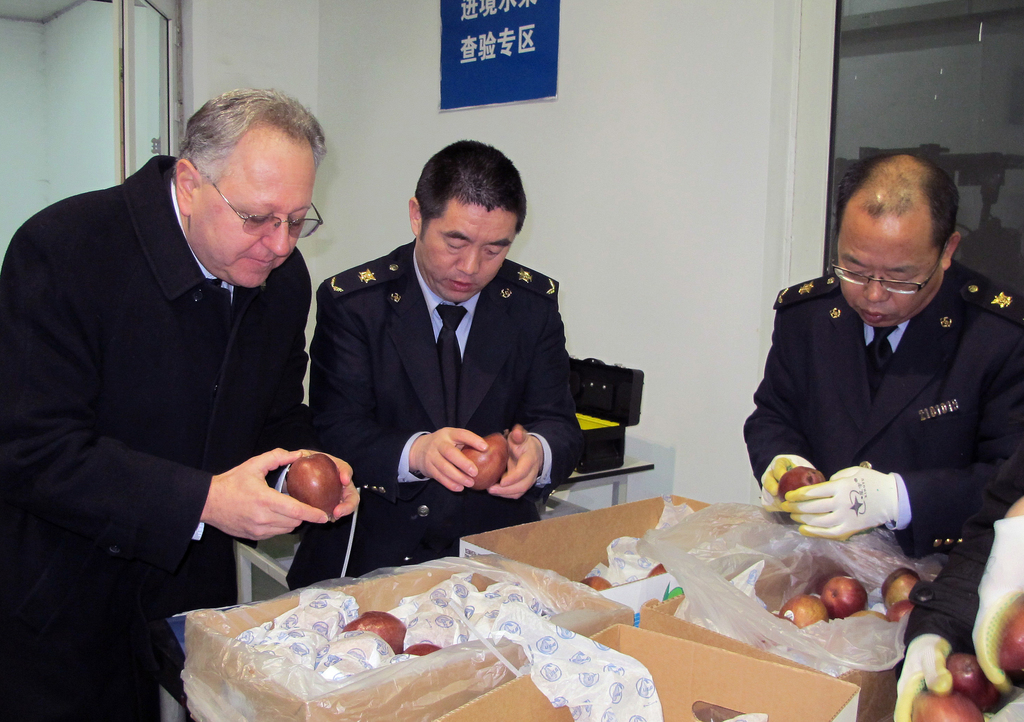Human_hand: (193, 447, 354, 560), (968, 518, 1023, 686), (778, 464, 895, 539), (892, 637, 955, 721), (416, 427, 489, 497), (298, 450, 362, 525), (488, 423, 544, 504), (760, 455, 817, 514)
